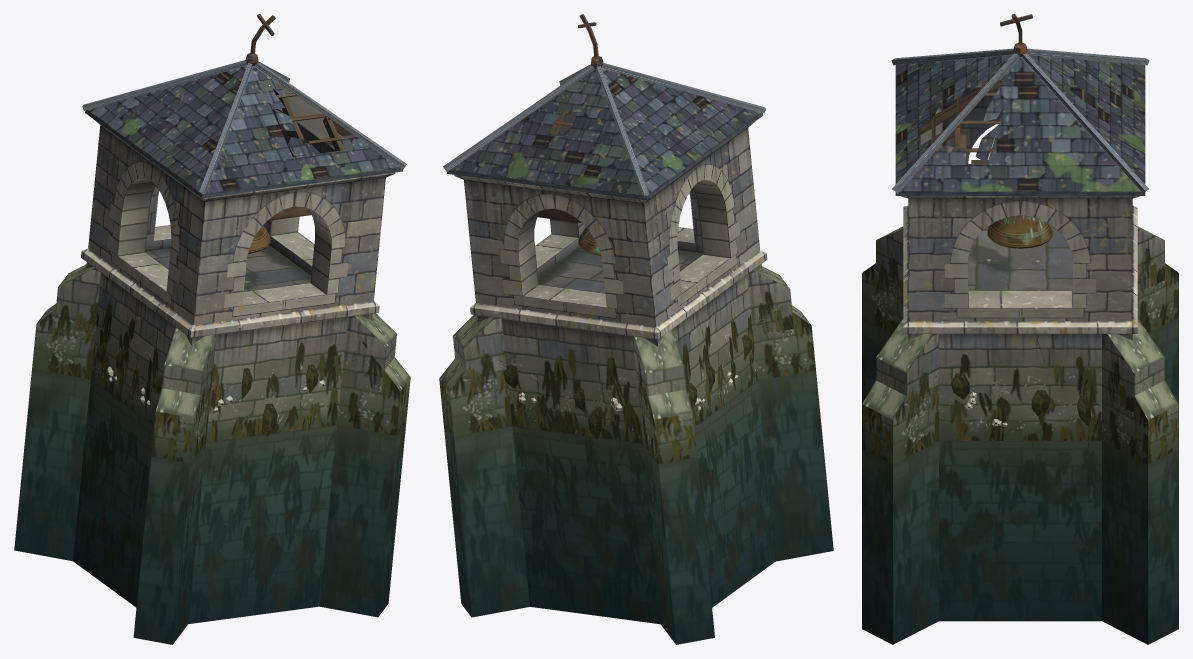
File: belfry.glb
3 views of the same model, side by side, from view 1: azimuth 30°, elevation 25°; view 2: azimuth 150°, elevation 25°; view 3: azimuth 270°, elevation 25° (orthographic). The views are drawn at different scales.
Parts seen in each view (by area): view 1: belfry; view 2: belfry; view 3: belfry, Bell.
Boxes of the visible parts, x1,y1,x2,y2 form: belfry: (14, 14, 410, 644); belfry: (439, 14, 833, 644); belfry: (862, 14, 1178, 644); Bell: (971, 160, 1053, 248).
Size of the model in its own units: 4.88 by 9.44 by 4.52.
Materials: 1 (1 with a texture image).
